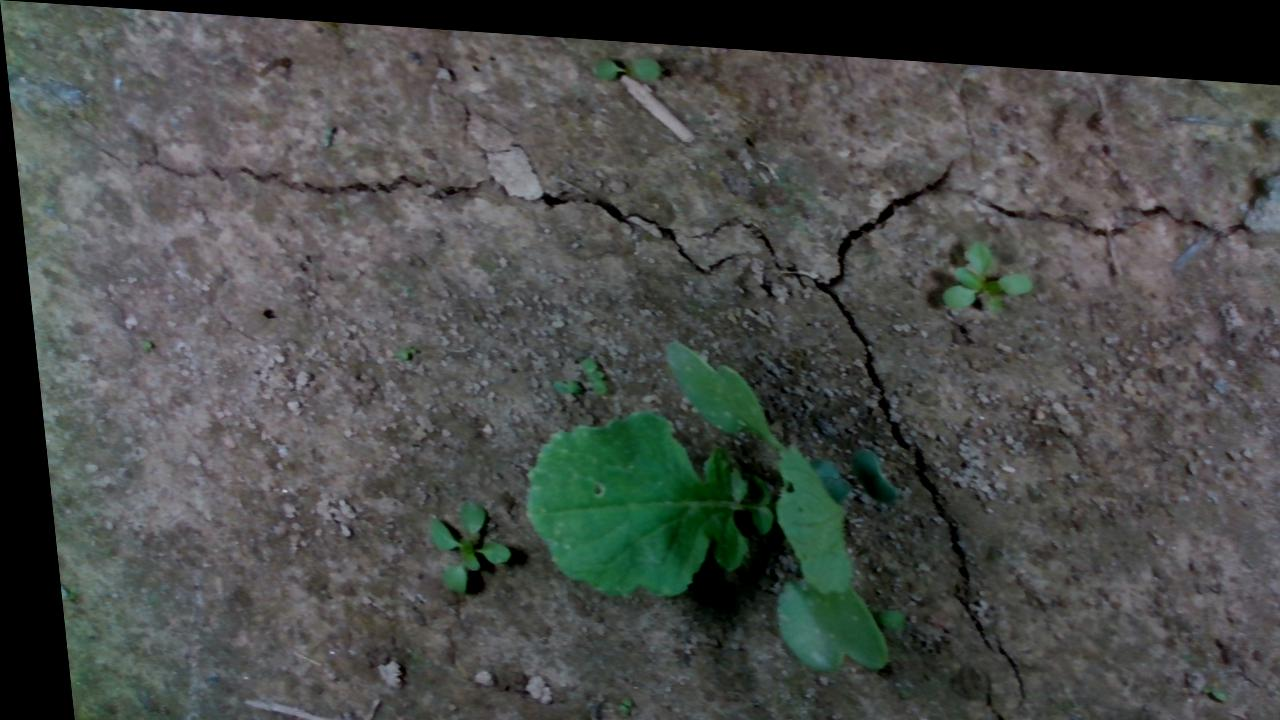weed: (588, 40, 663, 85)
